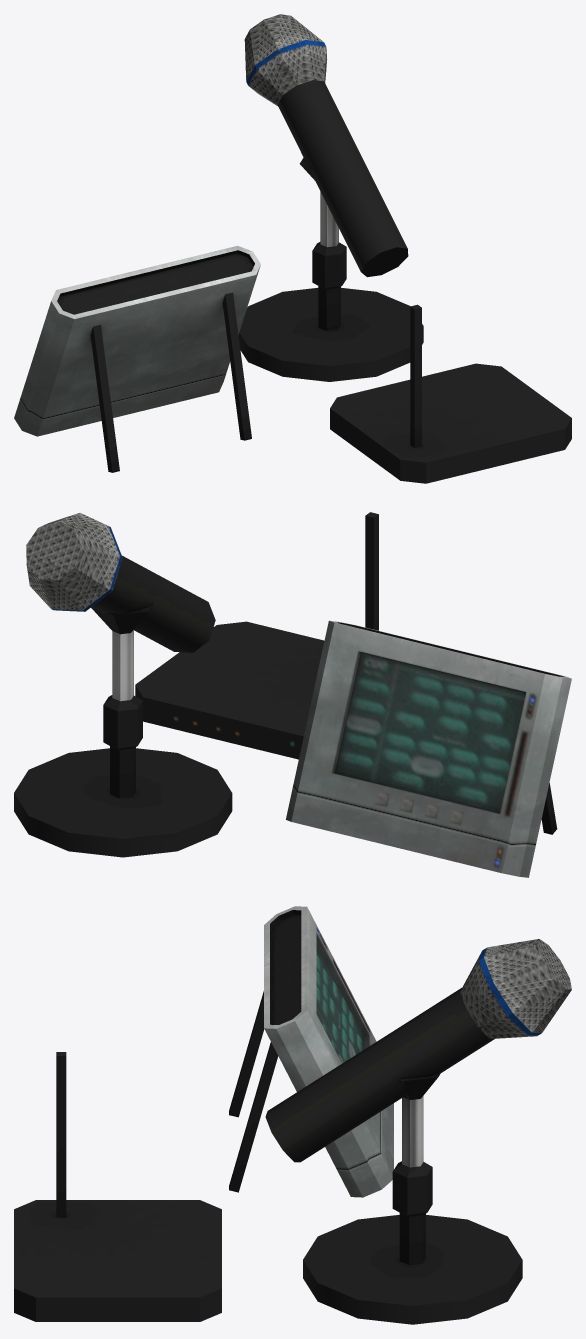
File: Server_Top_MISC.DAE
3 renders of one model, top to bottom at view 1: azimuth 30°, elevation 25°; view 2: azimuth 150°, elevation 25°; view 3: azimuth 270°, elevation 25°, orthographic. The views are drawn at different scales.
Visible parts, largest first — view 1: Server_Top_MISC; view 2: Server_Top_MISC; view 3: Server_Top_MISC.
Part boxes in pixels (bbox=[...]): Server_Top_MISC: bbox=[14, 14, 571, 483]; Server_Top_MISC: bbox=[14, 512, 571, 877]; Server_Top_MISC: bbox=[14, 906, 571, 1324].
Bounding box in the file's own units: 19.62 × 19.82 × 13.28.
Materials: 1 (1 with a texture image).
